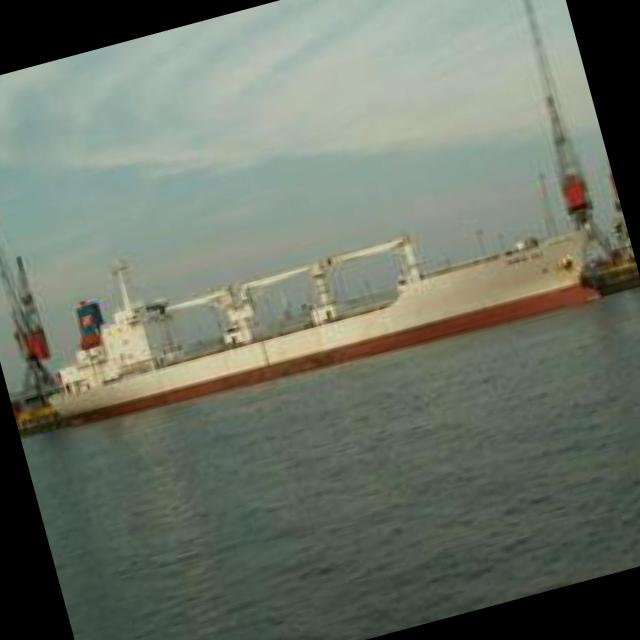boat: (32, 180, 628, 458)
